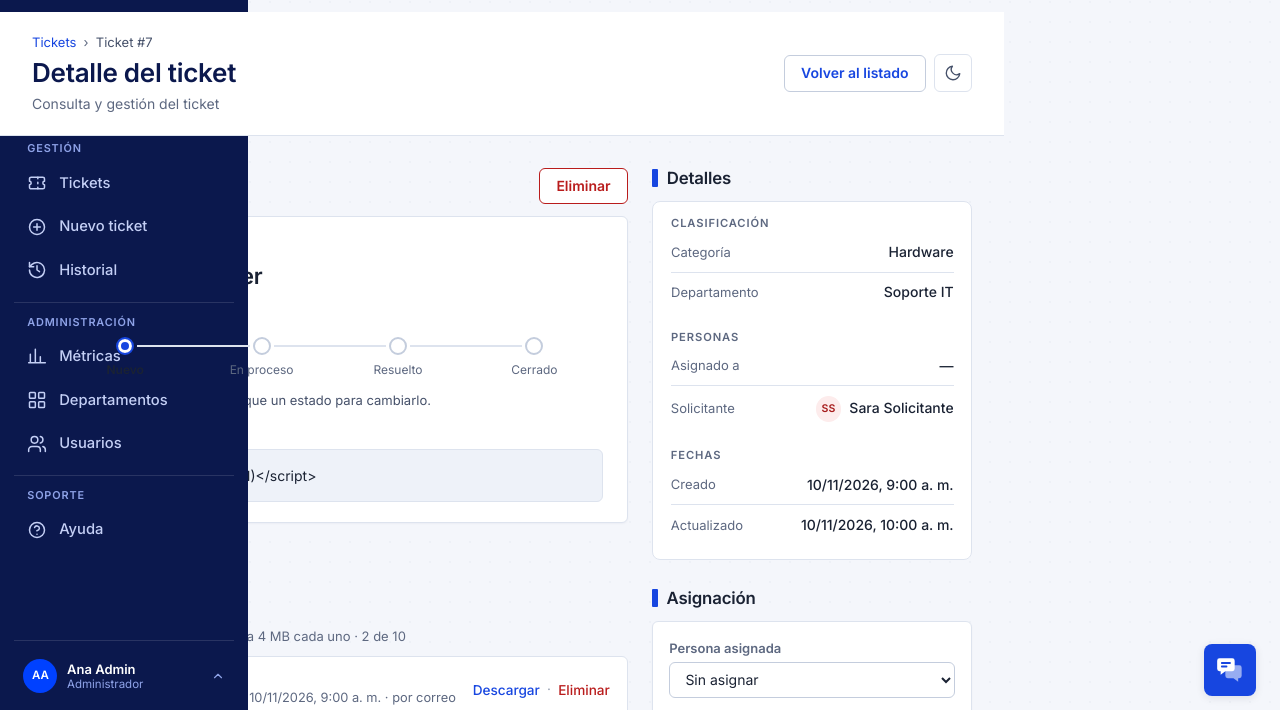
it: Detalle del ticket (/tickets/:id) › recorrido de estados › cancelar no cambia nada y Cerrado avisa que no se reabre
(page scrolled)
Expected: the heading "Impresora sin tóner" is shown, [57,262,262,289]
Click the button with aria-label "Pasar el ticket a «Cerrado»".
click(534, 360)  # box [466,337,603,383]
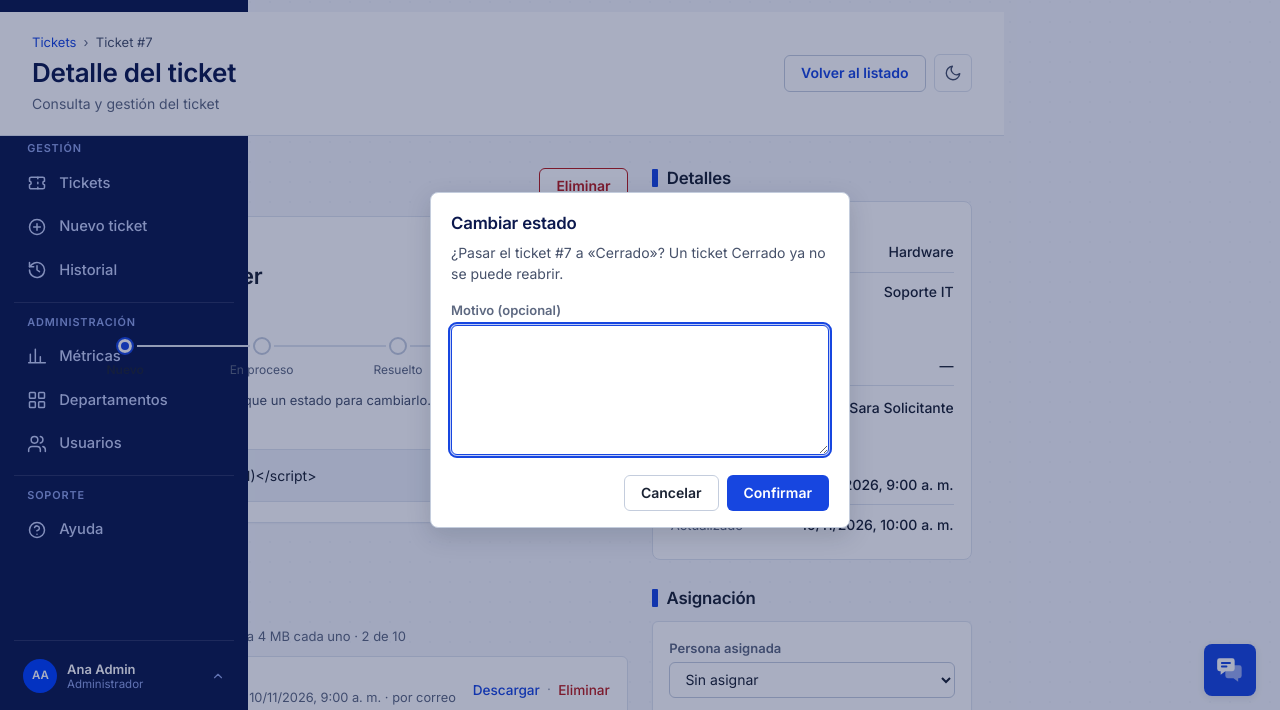
Expected: the dialog shows "Un ticket Cerrado ya no se puede reabrir.", [451,244,826,282]
Click the button "Cancelar".
click(671, 493)  # box [624,475,718,511]
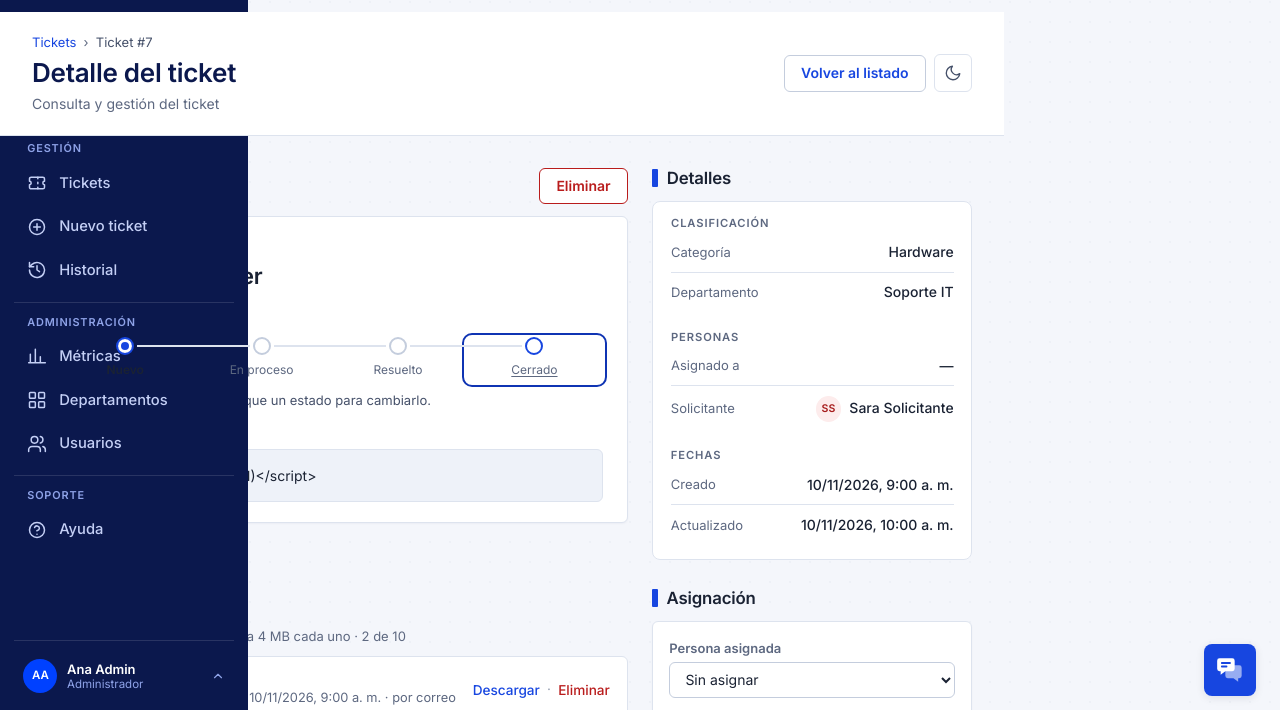
Expected: the dialog is gone
